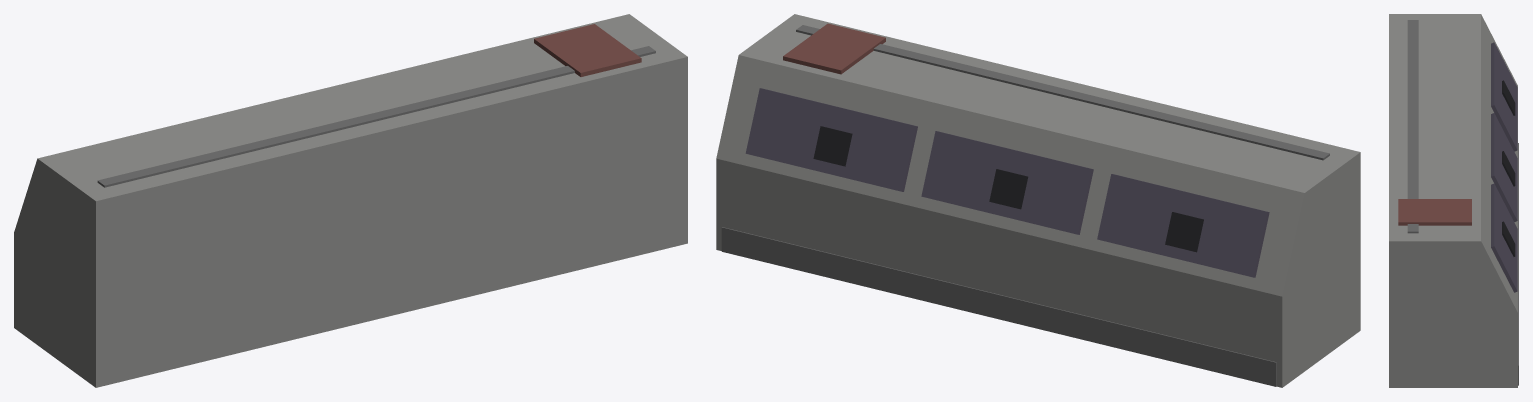
The model's file is oc_destroyed_console_large.obj.
3 renders of one model, left to right at view 1: azimuth 30°, elevation 25°; view 2: azimuth 150°, elevation 25°; view 3: azimuth 270°, elevation 25°, orthographic. The views are drawn at different scales.
Parts seen in each view (by area): view 1: oc_destroyed_console_large_0, oc_destroyed_console_large_9, oc_destroyed_console_large_1, oc_destroyed_console_large_10; view 2: oc_destroyed_console_large_1, oc_destroyed_console_large_0, oc_destroyed_console_large_2, oc_destroyed_console_large_5, oc_destroyed_console_large_7, oc_destroyed_console_large_3, oc_destroyed_console_large_9, oc_destroyed_console_large_10, oc_destroyed_console_large_8, oc_destroyed_console_large_4, oc_destroyed_console_large_6; view 3: oc_destroyed_console_large_0, oc_destroyed_console_large_1, oc_destroyed_console_large_9, oc_destroyed_console_large_10, oc_destroyed_console_large_3, oc_destroyed_console_large_5, oc_destroyed_console_large_7, oc_destroyed_console_large_2, oc_destroyed_console_large_6, oc_destroyed_console_large_8, oc_destroyed_console_large_4.
Boxes of the visible parts, x1,y1,x2,y2 form: oc_destroyed_console_large_0: (37, 14, 687, 387); oc_destroyed_console_large_9: (97, 46, 655, 187); oc_destroyed_console_large_1: (14, 159, 37, 344); oc_destroyed_console_large_10: (534, 24, 641, 76); oc_destroyed_console_large_1: (716, 55, 1304, 387); oc_destroyed_console_large_0: (739, 14, 1360, 371); oc_destroyed_console_large_2: (721, 227, 1276, 386); oc_destroyed_console_large_5: (921, 131, 1093, 234); oc_destroyed_console_large_7: (745, 88, 917, 191); oc_destroyed_console_large_3: (1097, 174, 1269, 277); oc_destroyed_console_large_9: (796, 25, 1329, 160); oc_destroyed_console_large_10: (783, 23, 885, 74); oc_destroyed_console_large_8: (813, 126, 852, 166); oc_destroyed_console_large_4: (1165, 212, 1203, 252); oc_destroyed_console_large_6: (989, 169, 1028, 209); oc_destroyed_console_large_0: (1389, 14, 1480, 387); oc_destroyed_console_large_1: (1481, 14, 1517, 387); oc_destroyed_console_large_9: (1407, 20, 1418, 233); oc_destroyed_console_large_10: (1398, 199, 1471, 225); oc_destroyed_console_large_3: (1491, 42, 1517, 151); oc_destroyed_console_large_5: (1491, 113, 1517, 221); oc_destroyed_console_large_7: (1491, 183, 1517, 292); oc_destroyed_console_large_2: (1518, 143, 1518, 385); oc_destroyed_console_large_6: (1502, 151, 1515, 186); oc_destroyed_console_large_8: (1502, 221, 1515, 256); oc_destroyed_console_large_4: (1502, 80, 1515, 115).
Size of the model in its own units: 2.92 by 0.9 by 0.705.
